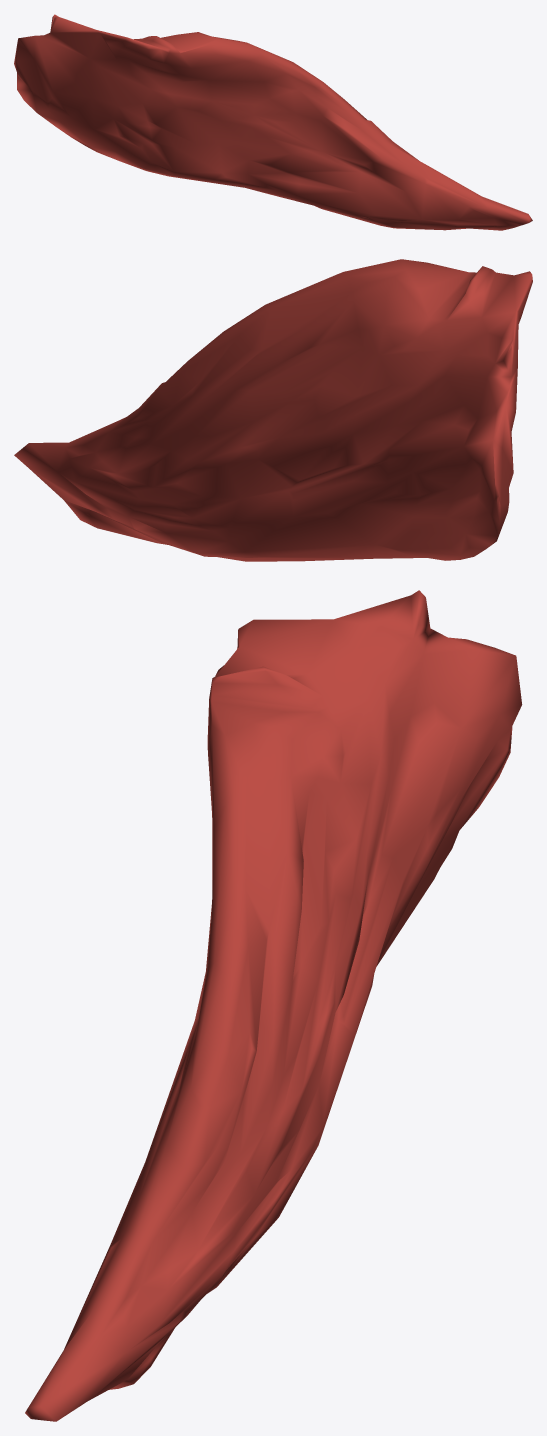
Rendered from musculos-piriformis-muscle-l.glb.
The picture shows the model from 3 angles, top to bottom: view 1: azimuth 30°, elevation 25°; view 2: azimuth 150°, elevation 25°; view 3: azimuth 270°, elevation 25°; orthographic projection. The views are drawn at different scales.
Visible parts, largest first — view 1: Piriformis muscle.l; view 2: Piriformis muscle.l; view 3: Piriformis muscle.l.
Part boxes in pixels (x1,y1,x2,y2): Piriformis muscle.l: [14, 14, 532, 230]; Piriformis muscle.l: [14, 259, 532, 561]; Piriformis muscle.l: [25, 590, 522, 1421].
Size of the model in its own units: 0.1098 by 0.0631 by 0.0593.
